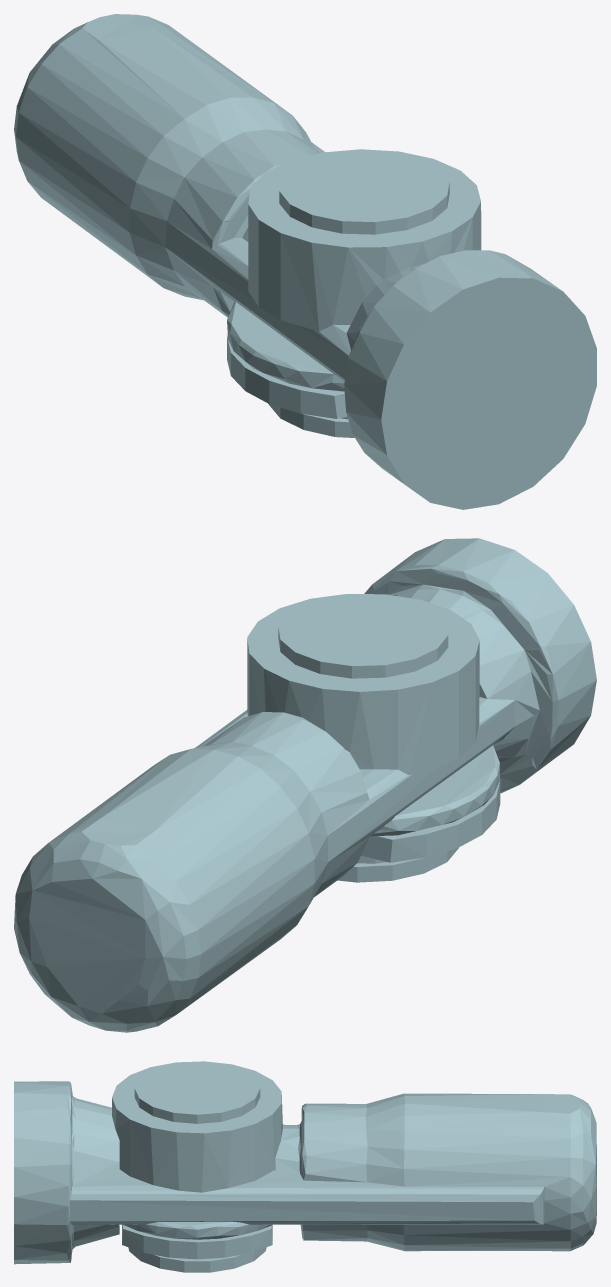
3 renders of one model, top to bottom at view 1: azimuth 30°, elevation 25°; view 2: azimuth 150°, elevation 25°; view 3: azimuth 270°, elevation 25°, orthographic. The views are drawn at different scales.
Parts seen in each view (by area): view 1: link6; view 2: link6; view 3: link6.
Boxes of the visible parts, x1,y1,x2,y2 form: link6: (14, 14, 596, 509); link6: (14, 538, 596, 1032); link6: (14, 1061, 596, 1272).
Size of the model in its own units: 0.08 by 0.0734 by 0.232.
